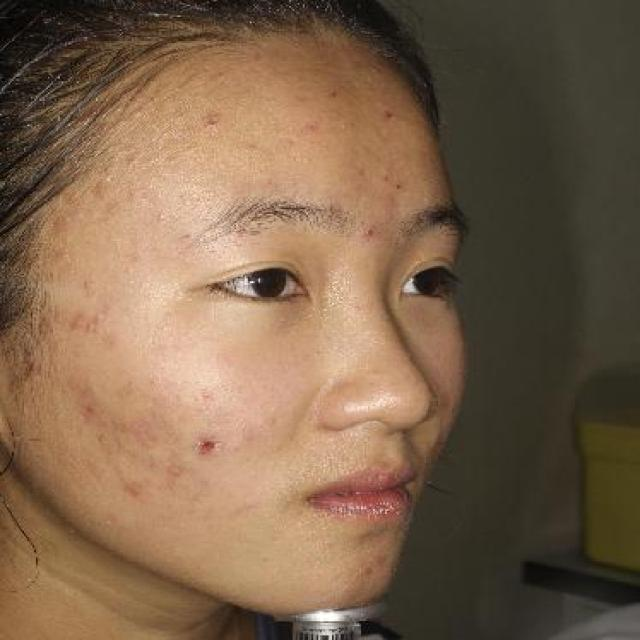Acne: (185, 424, 233, 462)
Blackheads: (198, 111, 228, 132), (324, 86, 349, 106), (354, 562, 376, 578), (378, 107, 399, 121), (394, 181, 411, 194)
Whiteheads: (147, 209, 175, 228)
